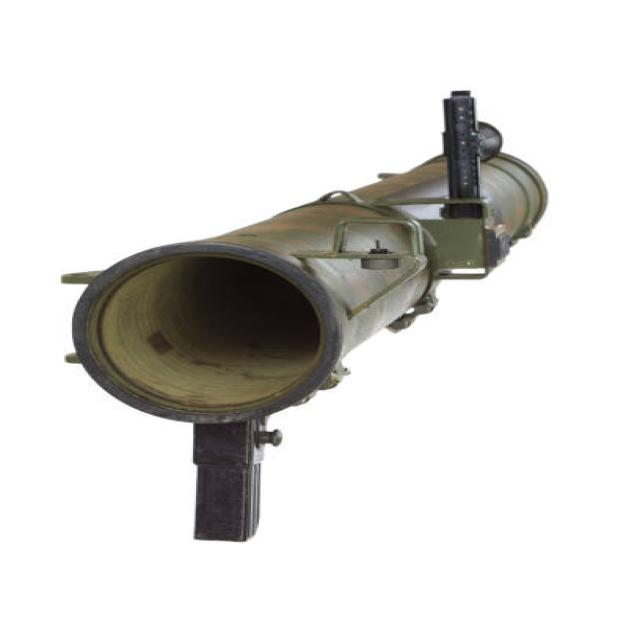bazooka: (44, 85, 556, 556)
